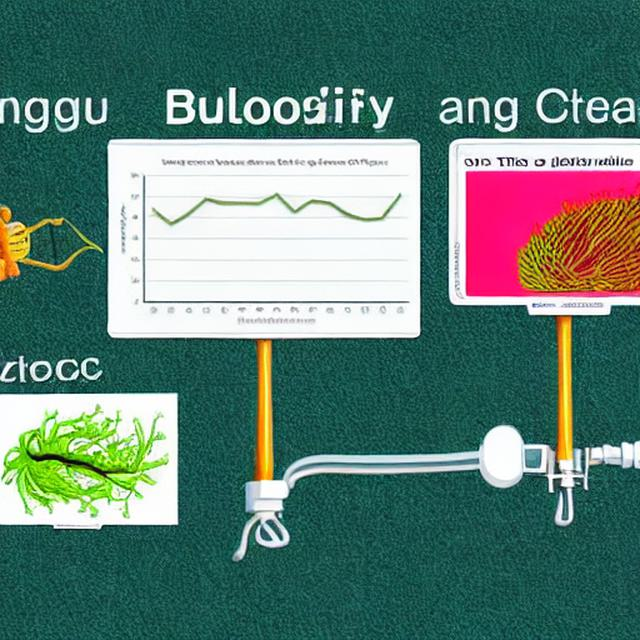Graph: (112, 152, 416, 335)
